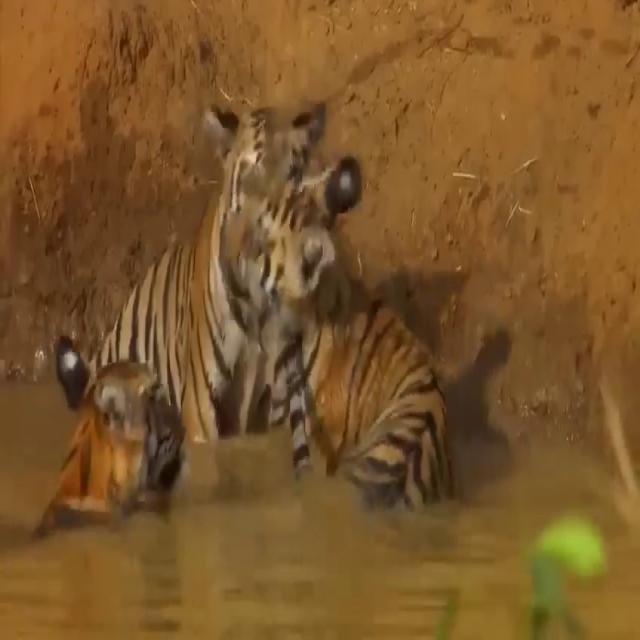tiger: (87, 88, 330, 443), (237, 153, 456, 509), (34, 330, 187, 542)
